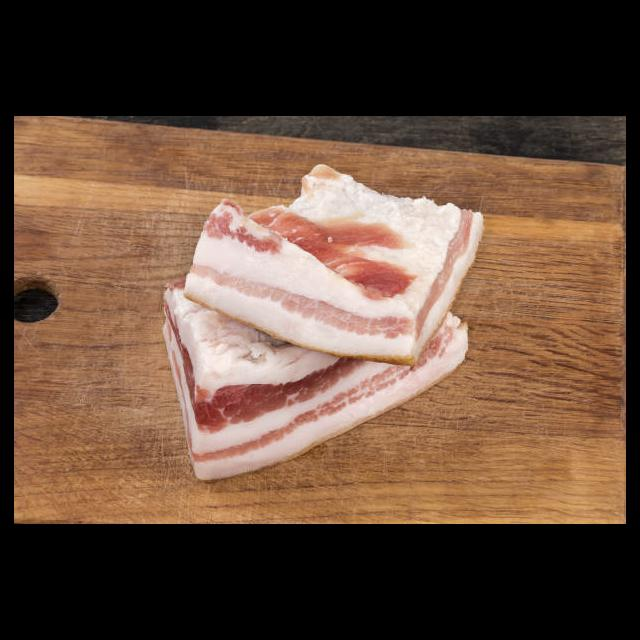pork: (152, 295, 472, 474), (191, 169, 483, 351)
